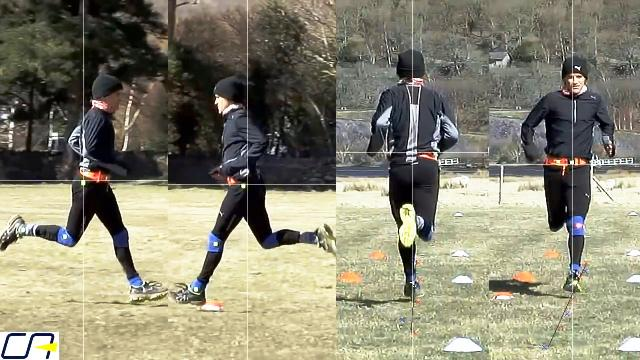berlari: (0, 69, 166, 309), (174, 74, 334, 307), (362, 43, 466, 311), (513, 52, 621, 310)
